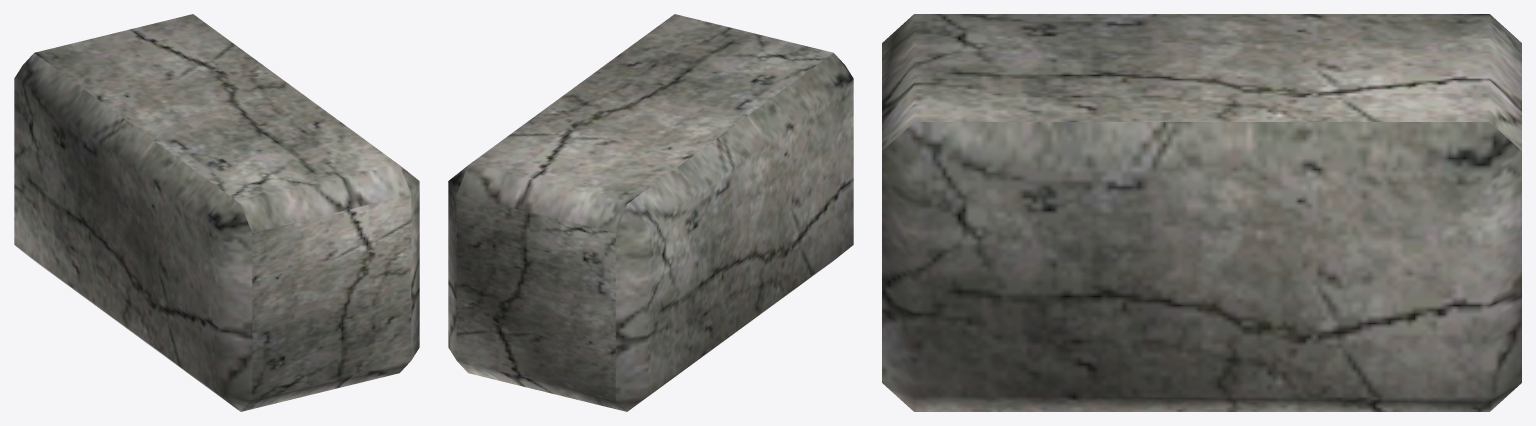
Rendered from BLOCK02.fbx.
The picture shows the model from 3 angles, left to right: view 1: azimuth 30°, elevation 25°; view 2: azimuth 150°, elevation 25°; view 3: azimuth 270°, elevation 25°; orthographic projection. The views are drawn at different scales.
Parts seen in each view (by area): view 1: BLOCK02; view 2: BLOCK02; view 3: BLOCK02.
Boxes of the visible parts, x1,y1,x2,y2 form: BLOCK02: (14, 14, 419, 411); BLOCK02: (448, 14, 853, 411); BLOCK02: (882, 14, 1521, 411).
Bounding box in the file's own units: 10000 × 10000 × 20000.
Materials: 1 (1 with a texture image).
